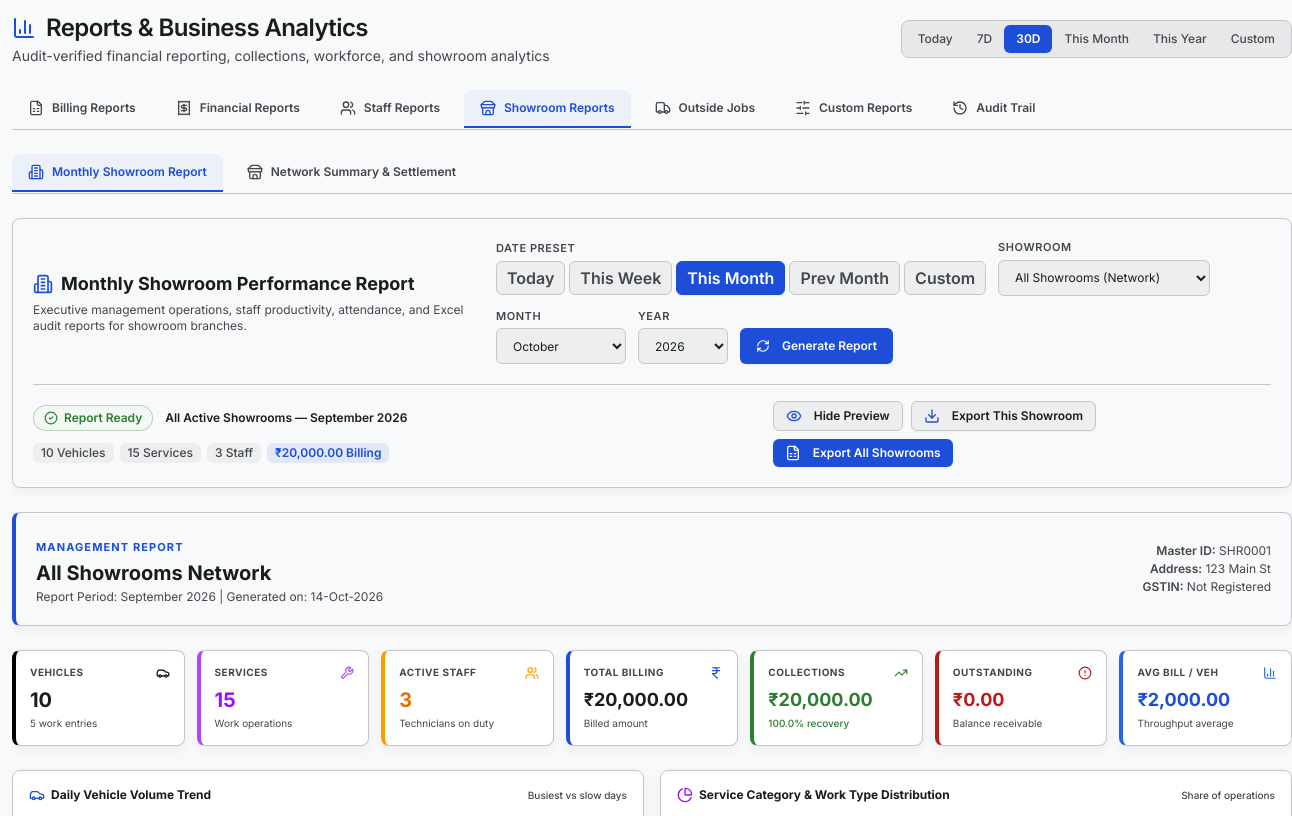
Test: ReportsPage Component › renders Showroom Reports view with monthly showroom report and sub-tab switcher when navigating to ?type=showroom
This screenshot has width=1292, height=816.
Check: the button "Monthly Showroom Report" is shown, box [12,154,223,192]
Check: the heading "Monthly Showroom Performance Report" is shown, box [61,270,415,298]
// Switch to Network Summary & Settlement tab
Click the button "Network Summary & Settlement".
click(351, 173)  # box [231,154,472,192]
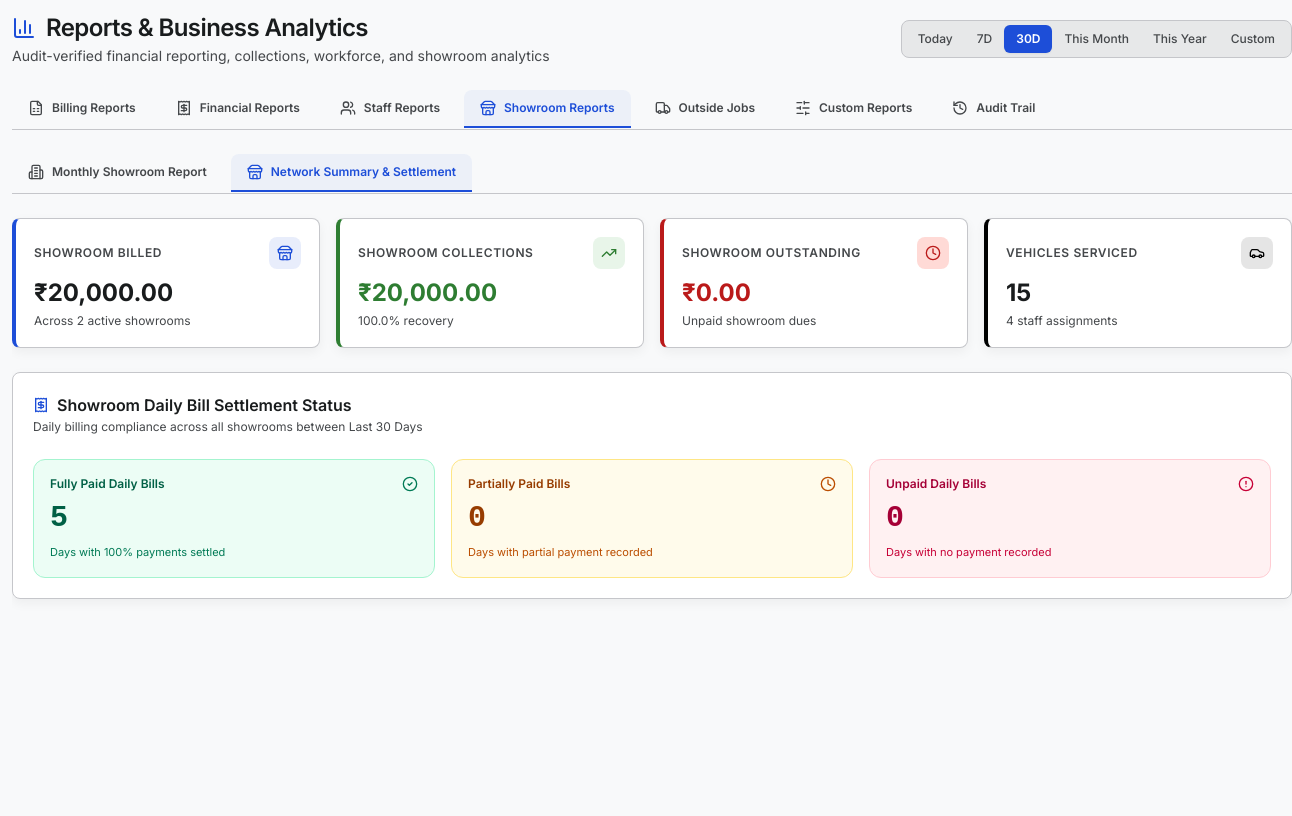
Check: the heading "Showroom Daily Bill Settlement Status" is shown, box [33,395,352,415]
Check: the text "Showroom Billed" is shown, box [34,245,162,261]
Check: the text "Fully Paid Daily Bills" is shown, box [50,476,165,492]
